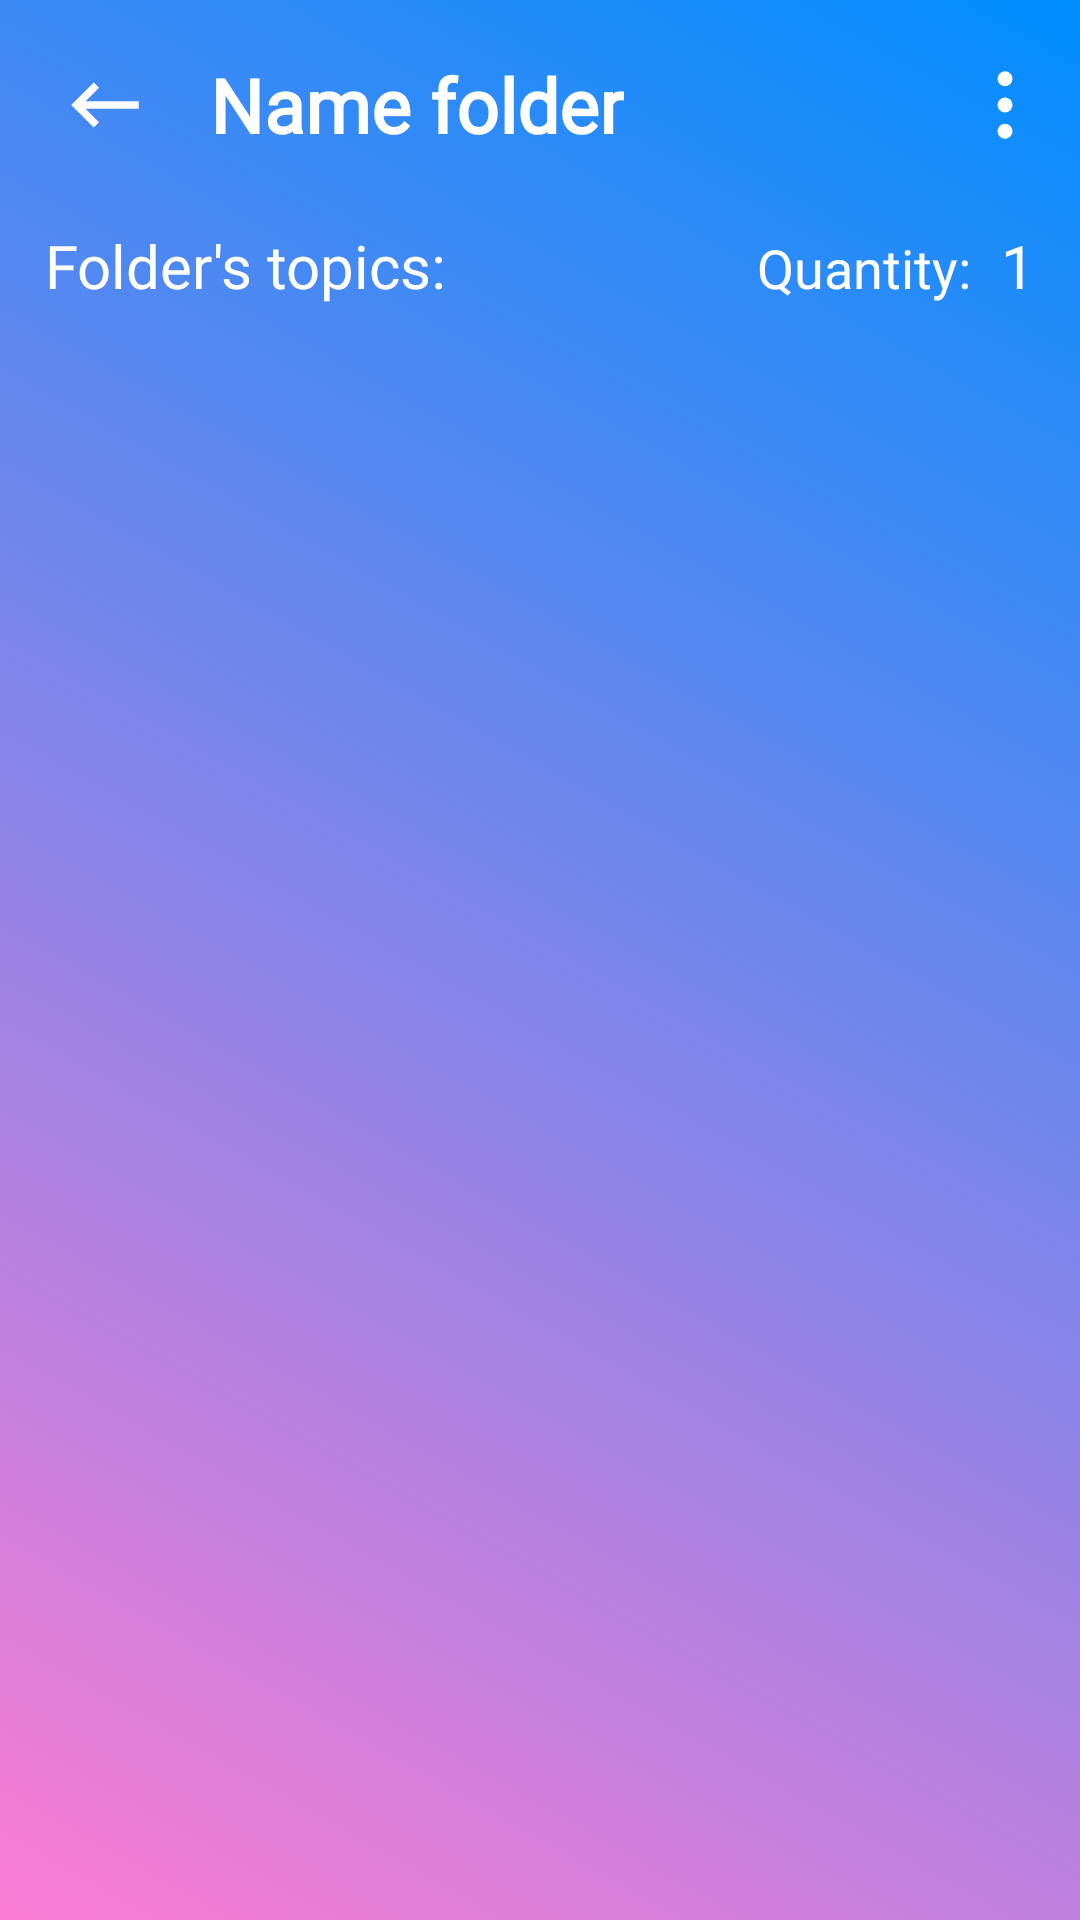

Icons on this 1080w x 1920h Android screen, each with its box as Rect(x1, y1, x2, y2):
keyboard backspace: Rect(71, 82, 139, 128)
vertical full: Rect(997, 71, 1013, 139)
